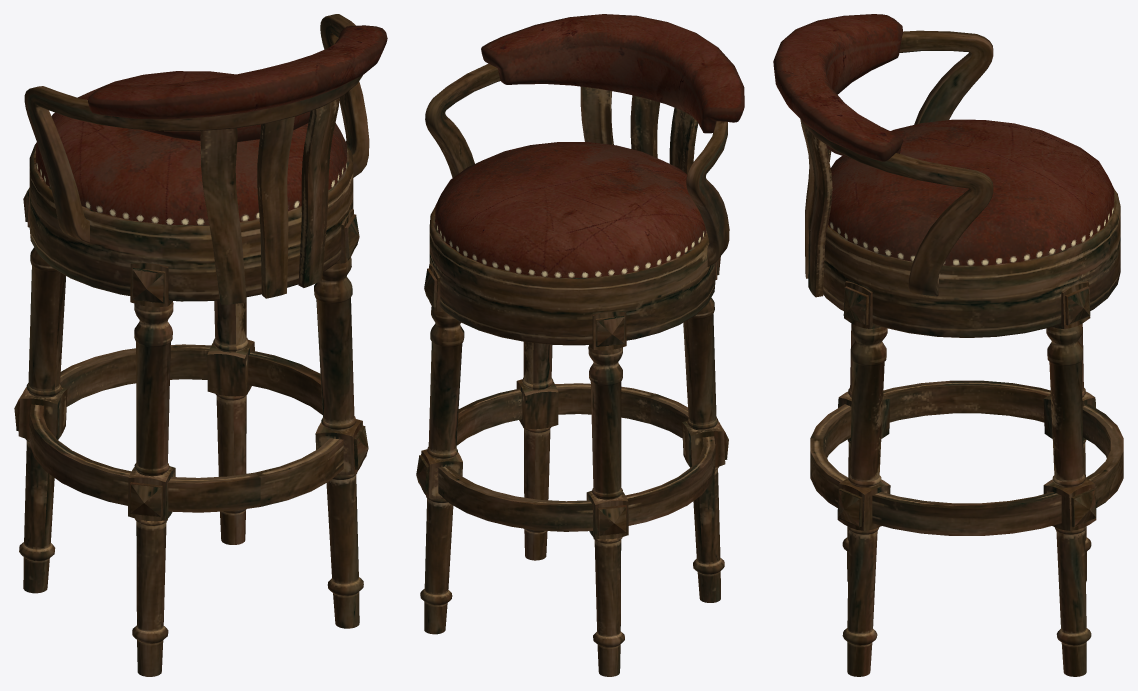
Rendered from Prop_BarStool.fbx.
3 renders of one model, left to right at view 1: azimuth 30°, elevation 25°; view 2: azimuth 150°, elevation 25°; view 3: azimuth 270°, elevation 25°, orthographic. The views are drawn at different scales.
Visible parts, largest first — view 1: Prop_BarStool; view 2: Prop_BarStool; view 3: Prop_BarStool.
Boxes of the visible parts, box(x1,y1,x2,y2) form: Prop_BarStool: box(14, 14, 387, 676); Prop_BarStool: box(416, 14, 744, 676); Prop_BarStool: box(773, 14, 1123, 676).
Bounding box in the file's own units: 26.08 × 48.72 × 27.15.
